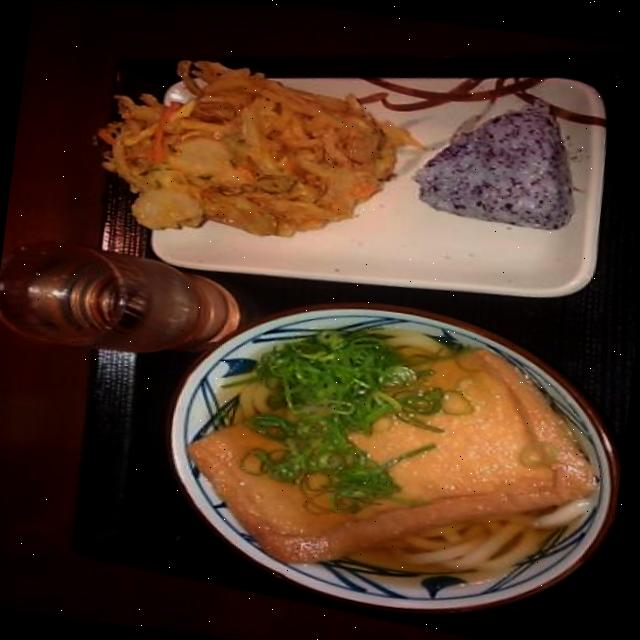米饭主食: (418, 69, 589, 237)
蔬菜料理: (95, 32, 400, 260)
